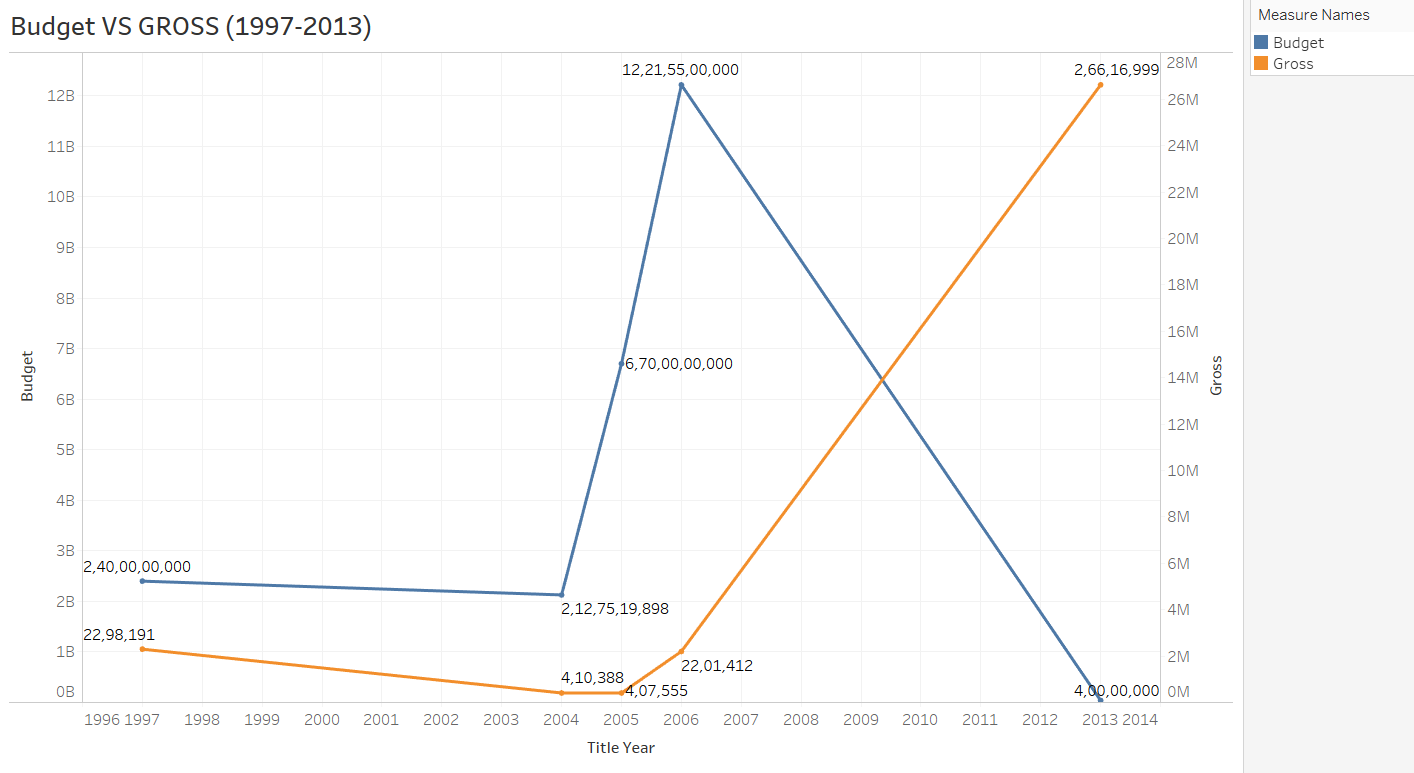

This screenshot's page, from the dashboard's own definition file:
{"tool":"tableau","page":{"name":"Dashboard 1","canvas":[1000,800],"ordinal":0},"visuals":[{"type":"worksheet","title":"Sheet 3","mark":"Automatic","rows":["budget","gross"],"cols":["title_year"],"box":[0,0,840,800]},{"type":"legend","title":"Sheet 3","param":"[federated.1e160na0utb0gz1e4g3et1r87qo7].[:Measure Names]","box":[840,0,160,76]}]}

Visuals, with their boxes on the page's 1000x800 design canvas (x1, y1, x2, y2). These are canvas units, not pixel positions in the 1414x773 screenshot, which may show the page scaled, cropped or inside an application window:
"Sheet 3" worksheet: box=[0, 0, 840, 800]
"Sheet 3" legend: box=[840, 0, 1000, 76]
